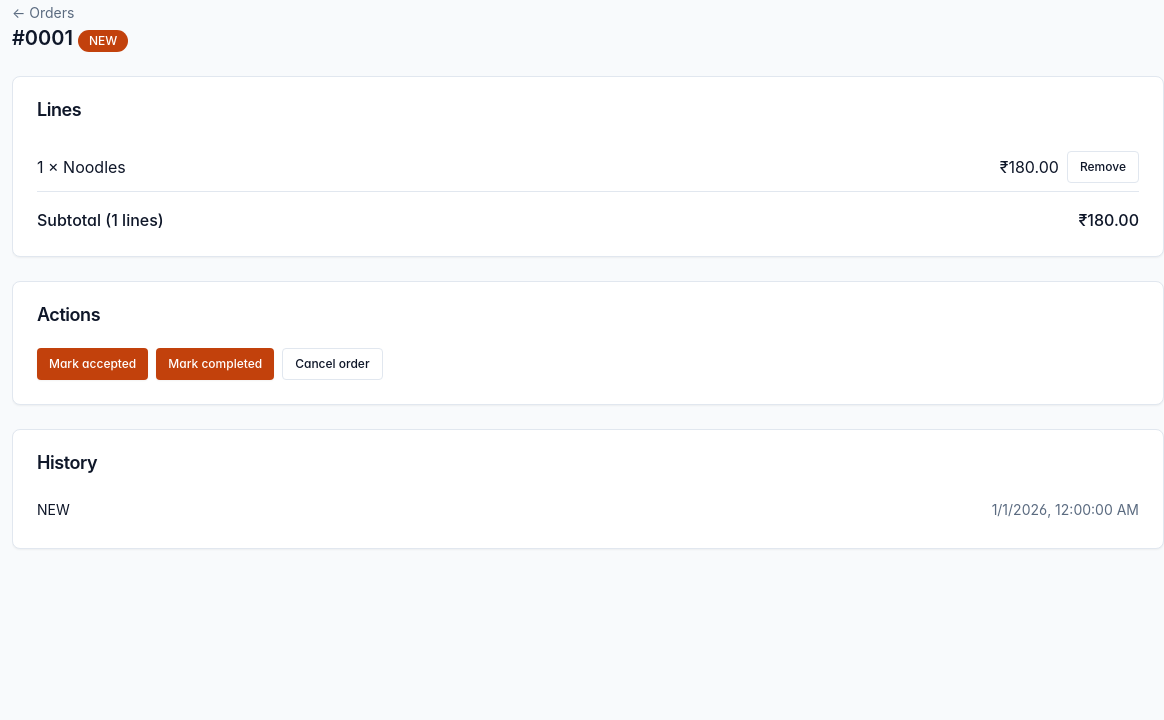
Test: OrderDetailPage › shows a mutation error when a transition fails
This screenshot has width=1164, height=720.
Expected: the text "1 × Noodles" is shown, [37,157,126,177]
Click the button "Mark accepted" at (93, 364), box [37,348,148,380]
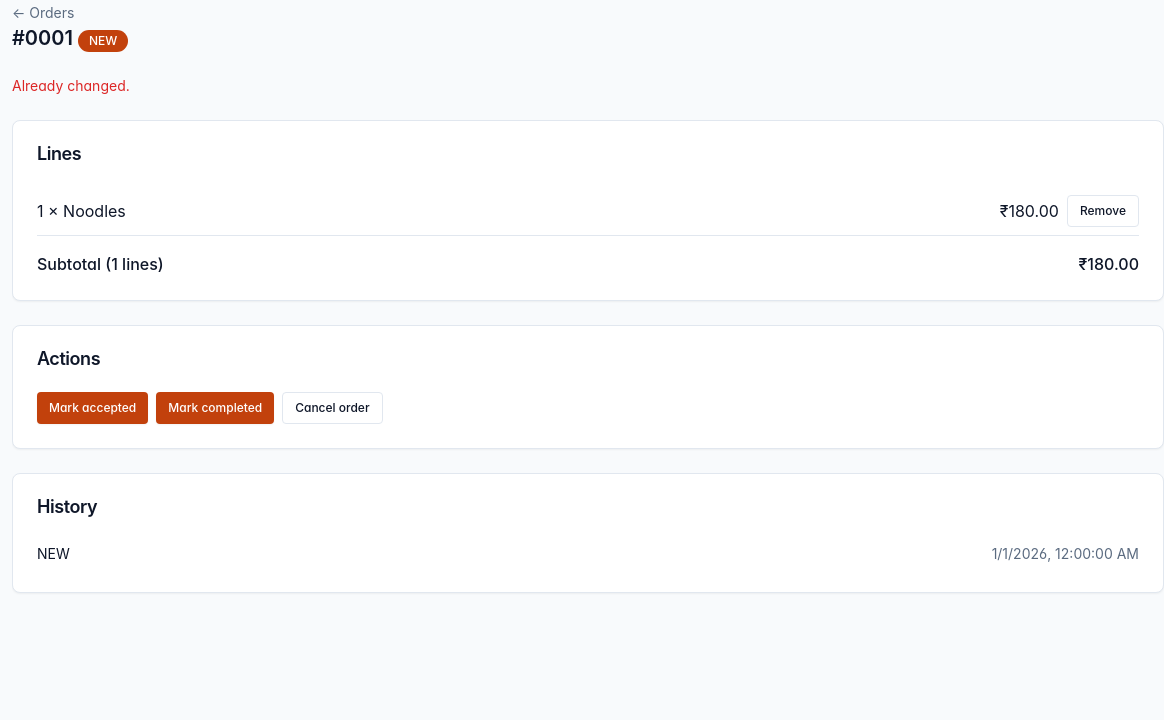
Now the text "Already changed." is shown, box [12,77,130,94]
